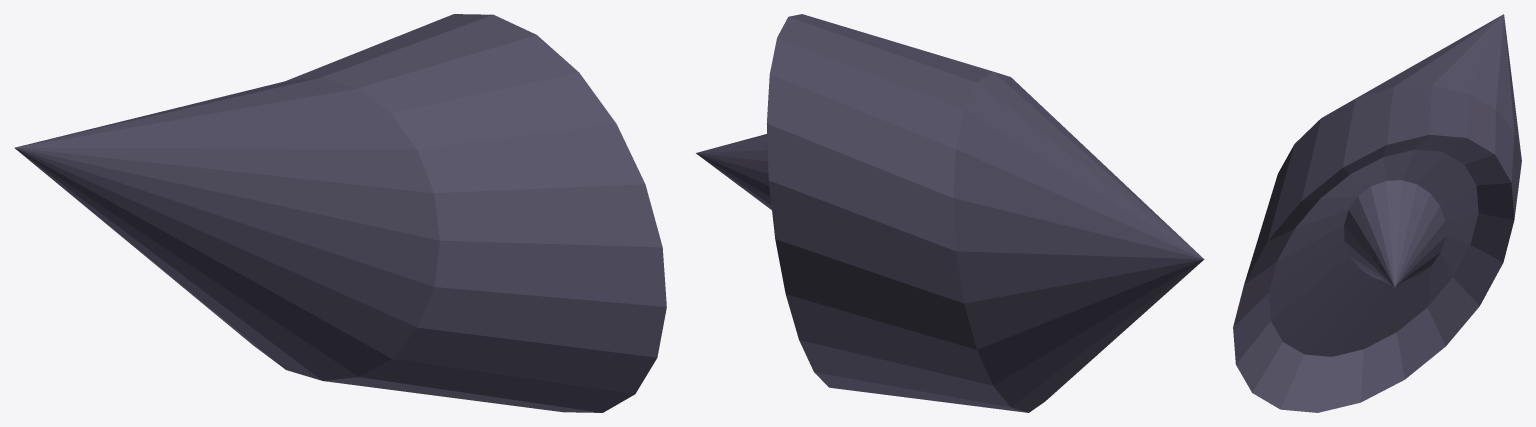
Rendered from MageRightHand.fbx.
The picture shows the model from 3 angles, left to right: view 1: azimuth 30°, elevation 25°; view 2: azimuth 150°, elevation 25°; view 3: azimuth 270°, elevation 25°; orthographic projection. The views are drawn at different scales.
Parts seen in each view (by area): view 1: polySurface290; view 2: polySurface290; view 3: polySurface290.
Boxes of the visible parts, x1,y1,x2,y2 form: polySurface290: [14, 14, 666, 412]; polySurface290: [696, 14, 1204, 412]; polySurface290: [1233, 14, 1521, 412].
Bounding box in the file's own units: 109 × 68.25 × 64.2.
